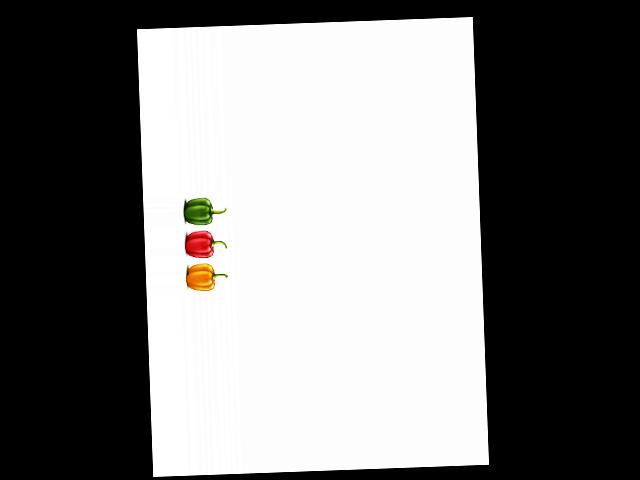bell_pepper: (180, 193, 226, 225)
